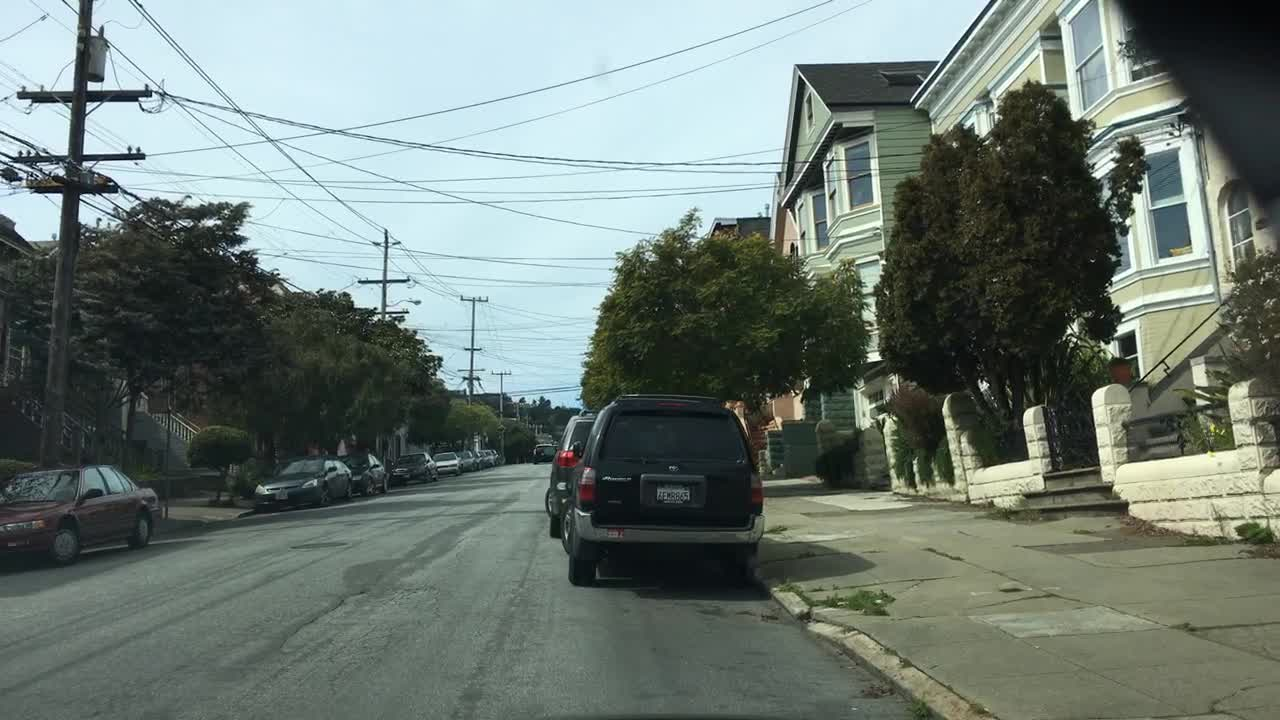car: (556, 390, 763, 590), (0, 466, 162, 568), (540, 408, 601, 542), (253, 451, 359, 511), (339, 449, 395, 495), (386, 454, 435, 484), (432, 451, 467, 479), (531, 441, 561, 464), (457, 449, 487, 471), (481, 449, 505, 466)
